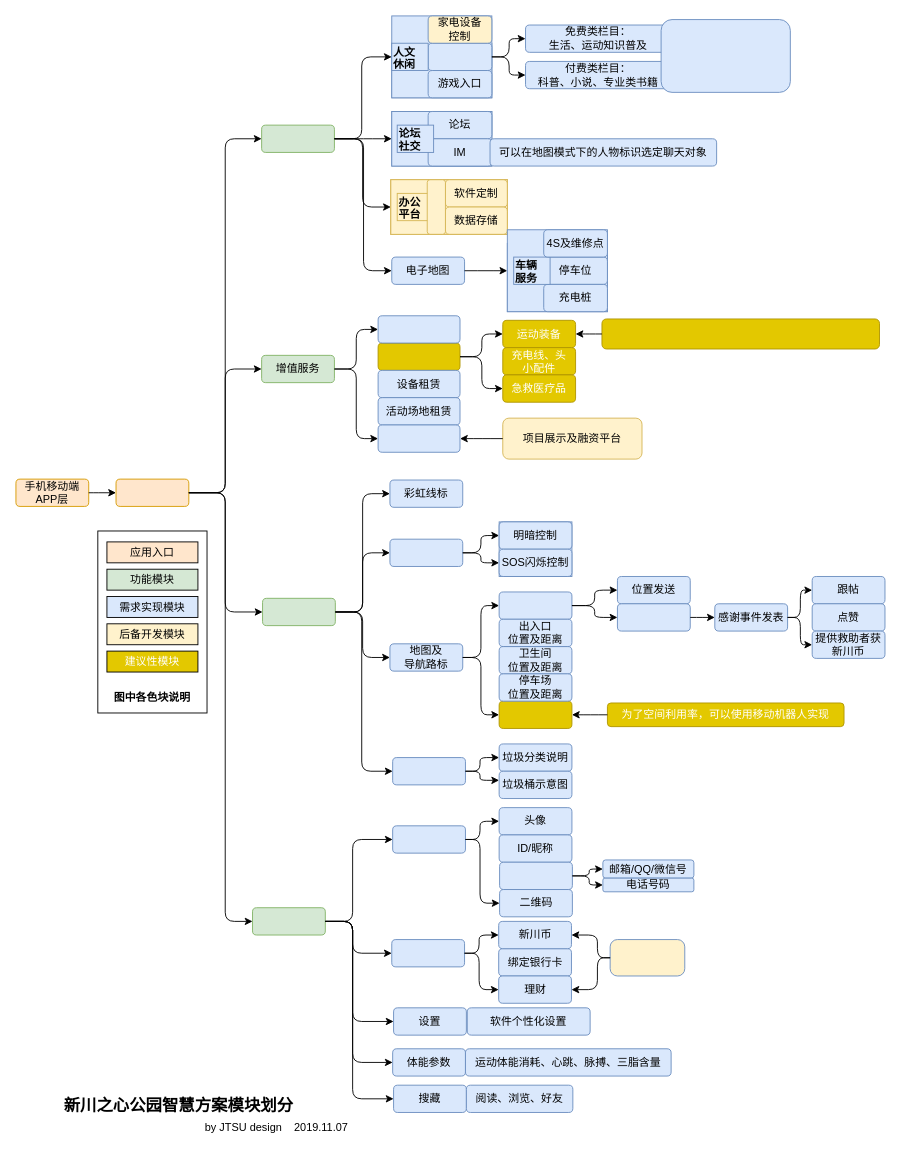
Some shapes in this 901 by 1152 pixel diagram are drawn without their labels. The centre of each missing label's shape, as x and y in pixels:
"OA系统" goes at pixel 435 206.
"SOS求助需求" goes at pixel 535 605.
"WiFi接入 入口" goes at pixel 152 492.
"个人中心" goes at pixel 288 921.
"个人信息" goes at pixel 428 839.
"可分享、求助他人付款。 分享、帮助他人付款均可获得新川币存入个人账户中心" goes at pixel 725 55.
"垃圾分类" goes at pixel 428 771.
"基础服务" goes at pixel 297 138.
"擦汗巾、护腕、跑步杉裤、防风镜、手套、能量饮料" goes at pixel 740 333.
"机器人（小贩）" goes at pixel 418 356.
"步道设备" goes at pixel 298 611.
"求助成功与否确认" goes at pixel 653 617.
"活动售票签到 系统" goes at pixel 418 329.
"电子书平台" goes at pixel 459 56.
"联系方式" goes at pixel 535 875.
"补给/医疗站位置/距离" goes at pixel 535 714.
"路灯灯光控制" goes at pixel 426 552.
"钱包" goes at pixel 428 953.
"项目合作 投资入口" goes at pixel 418 438.
"项目投资" goes at pixel 647 957.
